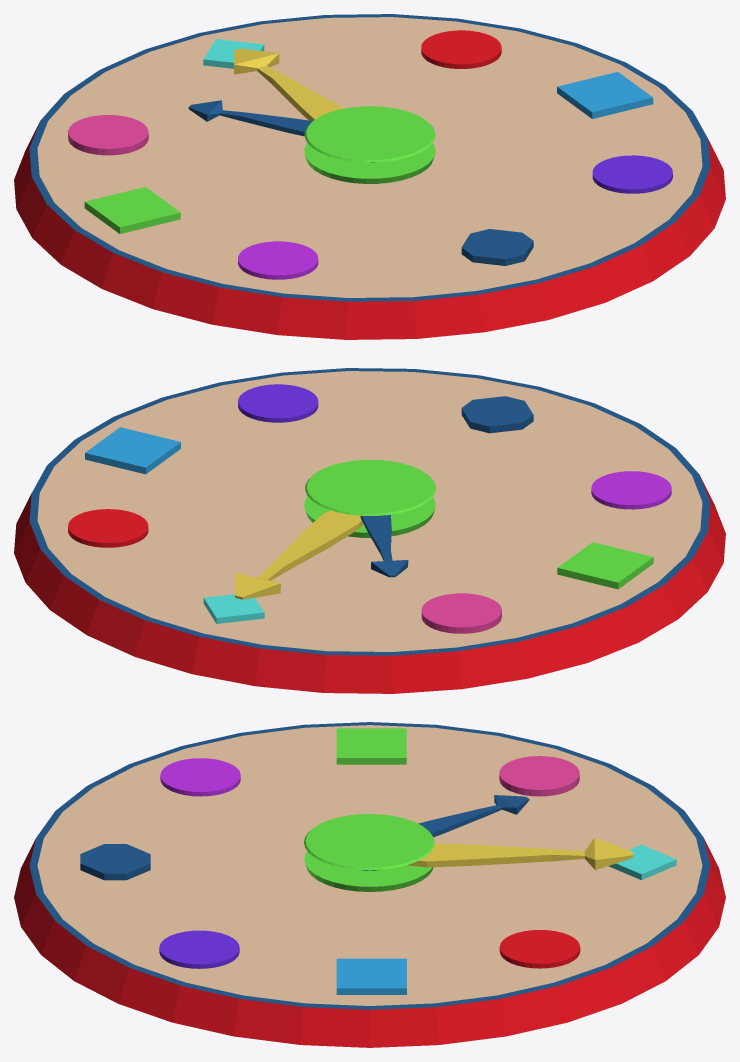
File: RelogioBrinquedo.fbx
The picture shows the model from 3 angles, top to bottom: view 1: azimuth 30°, elevation 25°; view 2: azimuth 150°, elevation 25°; view 3: azimuth 270°, elevation 25°; orthographic projection.
Parts seen in each view (by area): view 1: Base Relógio, Cilindro Superior Ponteiro, Cilindro Inferior Ponteiro, Horario.03, Horario.07, Horario.04, Horario.06, Horario.02, Horario.09, Ponteiro Grande, Horario.01, Ponteiro Pequeno (+1 smaller); view 2: Base Relógio, Cilindro Superior Ponteiro, Ponteiro Grande, Horario.03, Horario.07, Horario.04, Horario.06, Horario.02, Horario.09, Horario.01, Cilindro Inferior Ponteiro, Ponteiro Pequeno (+1 smaller); view 3: Base Relógio, Cilindro Superior Ponteiro, Ponteiro Grande, Horario.04, Cilindro Inferior Ponteiro, Horario.03, Horario.07, Horario.06, Horario.02, Horario.09, Horario.01, Ponteiro Pequeno (+1 smaller).
Part boxes in pixels (x1,y1,x2,y2): Base Relógio: (14,14,725,339); Cilindro Superior Ponteiro: (304,106,435,162); Cilindro Inferior Ponteiro: (304,143,435,183); Horario.03: (84,187,180,233); Horario.07: (557,72,653,118); Horario.04: (68,115,148,155); Horario.06: (421,30,501,68); Horario.02: (238,241,318,279); Horario.09: (592,155,672,193); Ponteiro Grande: (234,48,343,120); Horario.01: (461,229,533,265); Ponteiro Pequeno: (188,100,312,136); Base Relógio: (14,368,725,693); Cilindro Superior Ponteiro: (305,459,435,515); Ponteiro Grande: (235,510,363,599); Horario.03: (557,542,653,589); Horario.07: (85,427,180,474); Horario.04: (421,593,501,633); Horario.06: (68,509,148,547); Horario.02: (591,471,671,509); Horario.09: (238,384,318,422); Horario.01: (461,396,533,433); Cilindro Inferior Ponteiro: (304,496,435,537); Ponteiro Pequeno: (360,514,408,577); Base Relógio: (14,722,725,1047); Cilindro Superior Ponteiro: (304,814,434,870); Ponteiro Grande: (407,838,632,870); Horario.04: (499,756,579,796); Cilindro Inferior Ponteiro: (304,851,433,891); Horario.03: (336,728,406,764); Horario.07: (336,958,406,994); Horario.06: (499,930,580,968); Horario.02: (160,758,240,796); Horario.09: (159,930,239,968); Horario.01: (80,844,150,880); Ponteiro Pequeno: (418,795,529,836).
Bounding box in the file's own units: 2.09 × 2.09 × 0.1831.
